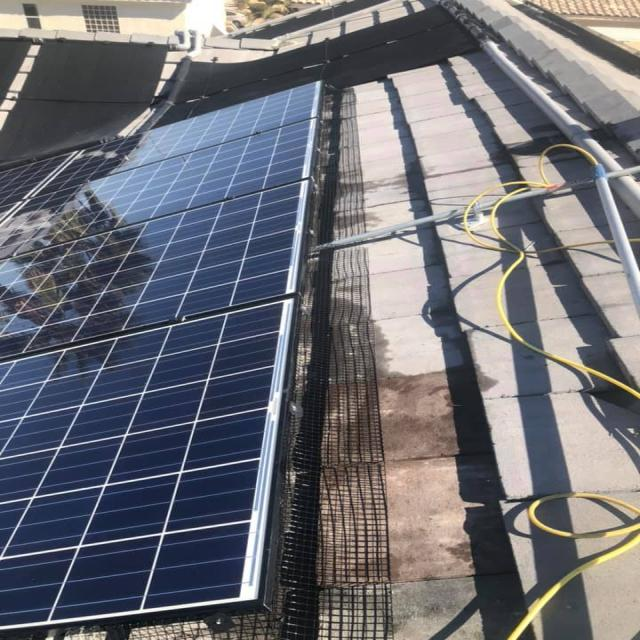clean-solar-panel: (3, 85, 320, 629)
